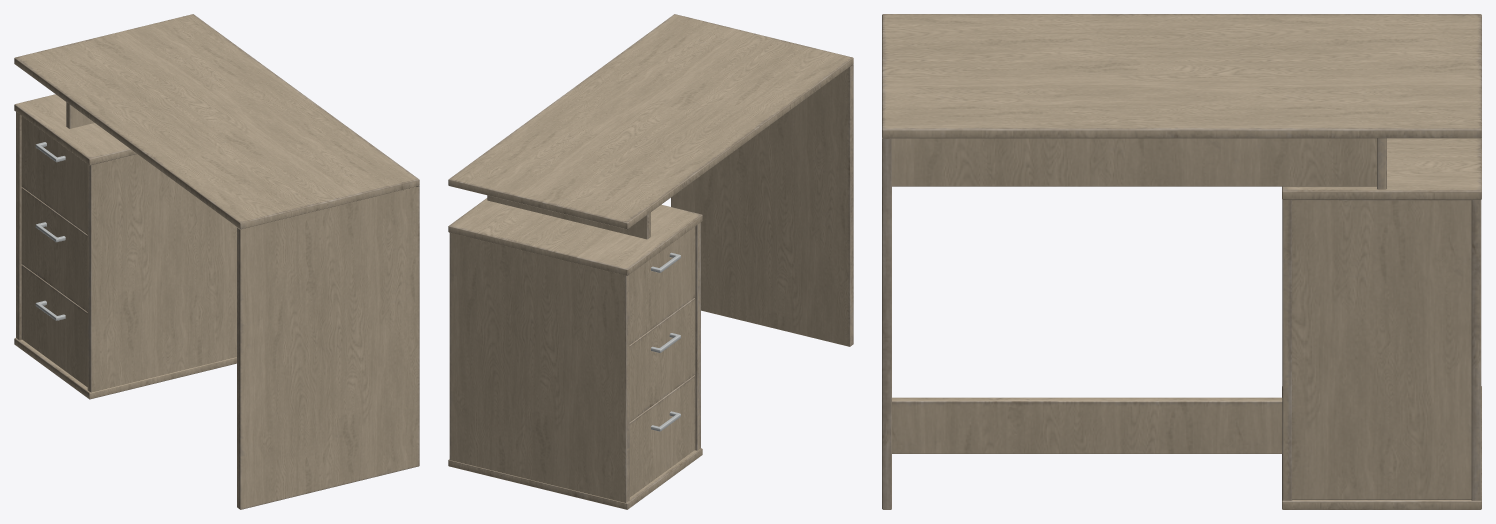
Rendered from desk.gltf.
The picture shows the model from 3 angles, left to right: view 1: azimuth 30°, elevation 25°; view 2: azimuth 150°, elevation 25°; view 3: azimuth 270°, elevation 25°; orthographic projection. The views are drawn at different scales.
Parts seen in each view (by area): view 1: Desk; view 2: Desk; view 3: Desk.
Part boxes in pixels (x1,y1,x2,y2): Desk: (14, 14, 419, 509); Desk: (448, 14, 853, 509); Desk: (882, 14, 1481, 509).
Bounding box in the file's own units: 56.77 × 84.02 × 120.
Materials: 1 (1 with a texture image).
